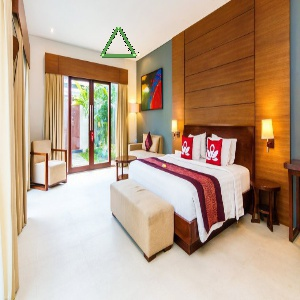triangle: (97, 23, 141, 63)
